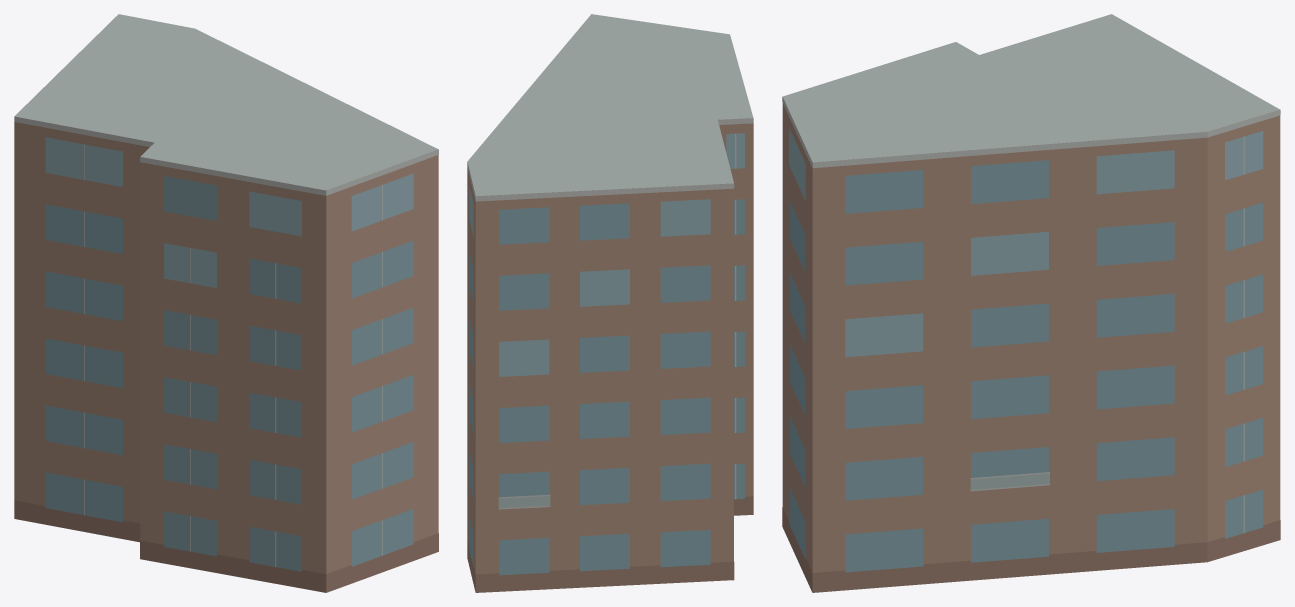
Rendered from survey-upis-32942463.glb.
3 views of the same model, side by side, from view 1: azimuth 30°, elevation 25°; view 2: azimuth 150°, elevation 25°; view 3: azimuth 270°, elevation 25° (orthographic). The views are drawn at different scales.
Parts seen in each view (by area): view 1: survey-upis-32942463.tmp; view 2: survey-upis-32942463.tmp; view 3: survey-upis-32942463.tmp.
Boxes of the visible parts, box(x1,y1,x2,y2) form: survey-upis-32942463.tmp: box(14, 14, 438, 592); survey-upis-32942463.tmp: box(467, 14, 753, 592); survey-upis-32942463.tmp: box(782, 14, 1280, 592).
Bounding box in the file's own units: 13.56 × 18.3 × 19.2.
